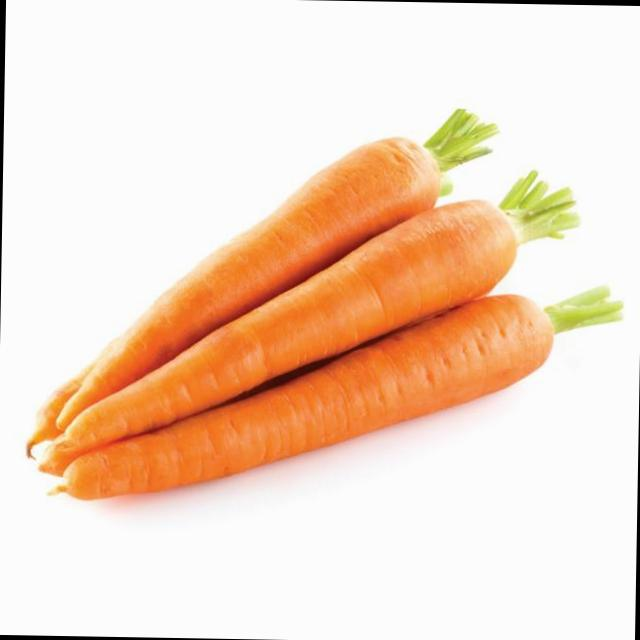carrot: (64, 196, 523, 450), (53, 138, 436, 431), (61, 302, 558, 499)
